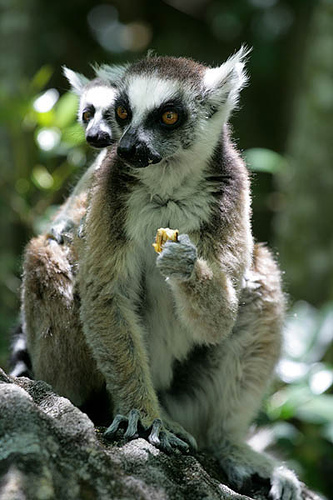cat: (16, 42, 302, 498)
